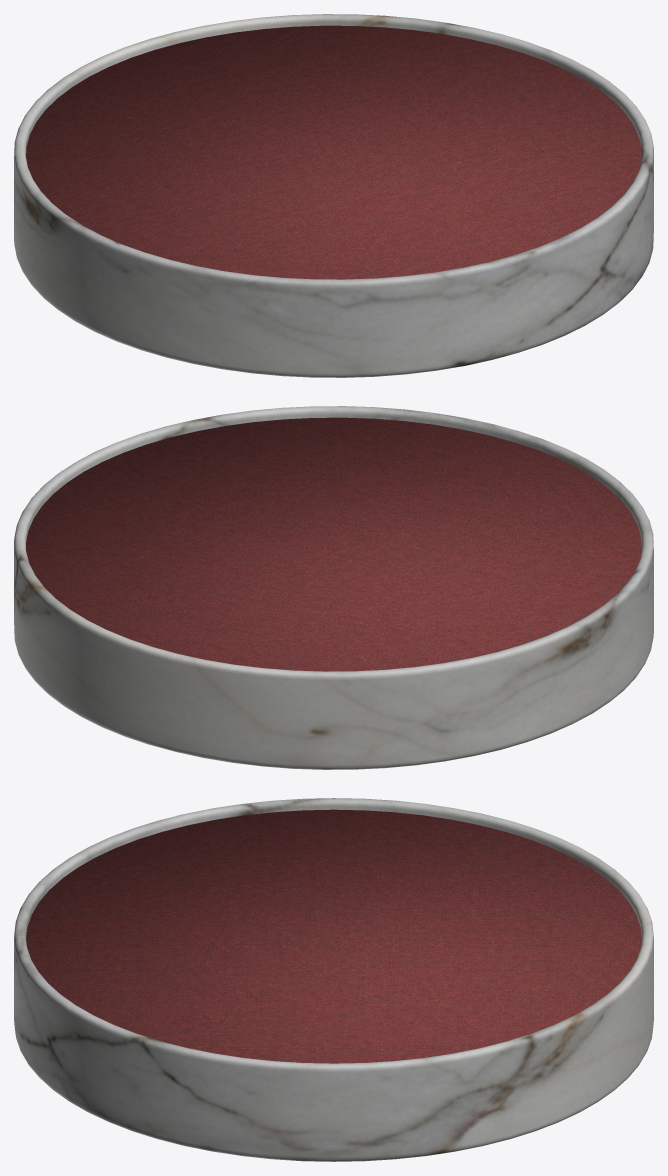
Rendered from Dish.glb.
3 renders of one model, top to bottom at view 1: azimuth 30°, elevation 25°; view 2: azimuth 150°, elevation 25°; view 3: azimuth 270°, elevation 25°, orthographic.
Visible parts, largest first — view 1: petry dish.001, petry dish; view 2: petry dish.001, petry dish; view 3: petry dish.001, petry dish.
Boxes of the visible parts, bbox=[...] form: petry dish.001: bbox=[26, 25, 641, 279]; petry dish: bbox=[14, 14, 653, 377]; petry dish.001: bbox=[26, 417, 641, 671]; petry dish: bbox=[14, 406, 653, 769]; petry dish.001: bbox=[26, 809, 641, 1063]; petry dish: bbox=[14, 798, 653, 1161].
Size of the model in its own units: 0.0489 by 0.00821 by 0.0489.
Materials: 2 (2 with a texture image).
